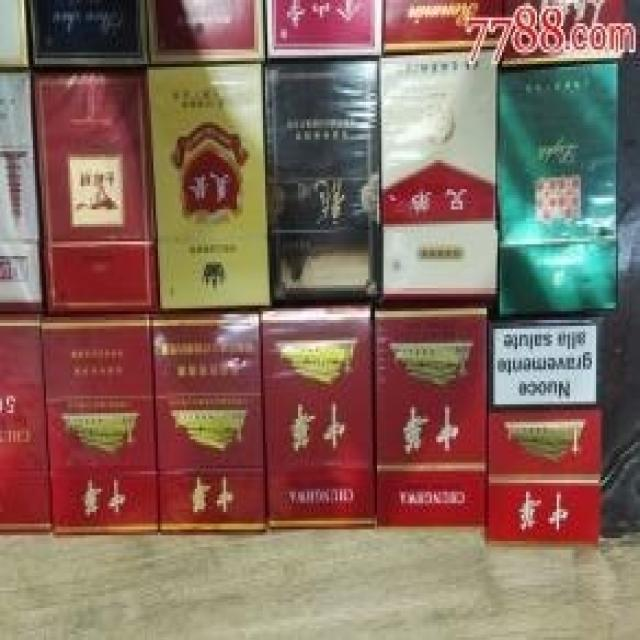box: (147, 64, 272, 308), (35, 70, 160, 311), (265, 61, 386, 303), (381, 52, 500, 294), (500, 64, 616, 311), (487, 314, 605, 544), (42, 311, 160, 538), (153, 311, 270, 535), (261, 305, 379, 527), (377, 308, 487, 527), (0, 311, 53, 532), (0, 67, 44, 311), (500, 0, 625, 73), (142, 0, 265, 70), (22, 0, 149, 67), (265, 0, 384, 61), (381, 0, 504, 58)
